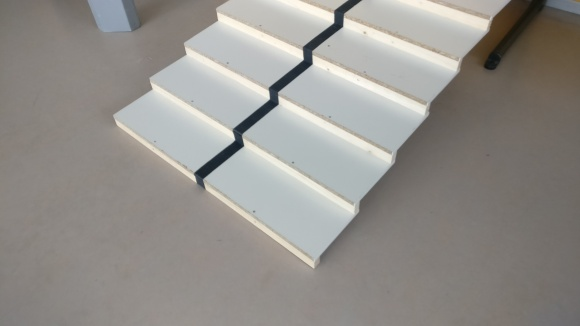stairs: (106, 1, 520, 270)
